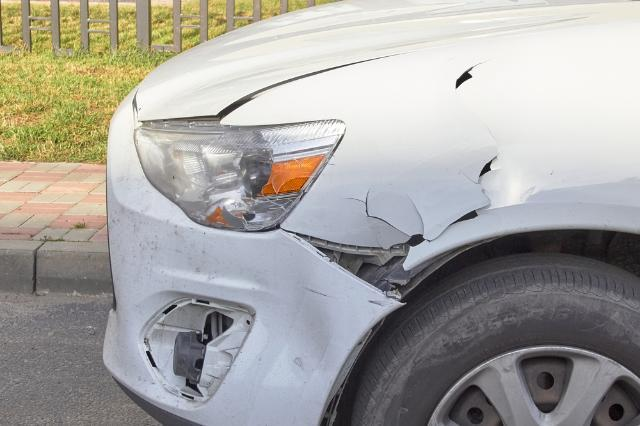crack: (342, 153, 500, 249), (455, 57, 497, 90)
dent: (235, 272, 333, 386), (482, 154, 551, 210)
dislocated part: (105, 219, 405, 426), (133, 54, 390, 123)
lamp broken: (134, 119, 345, 233)
